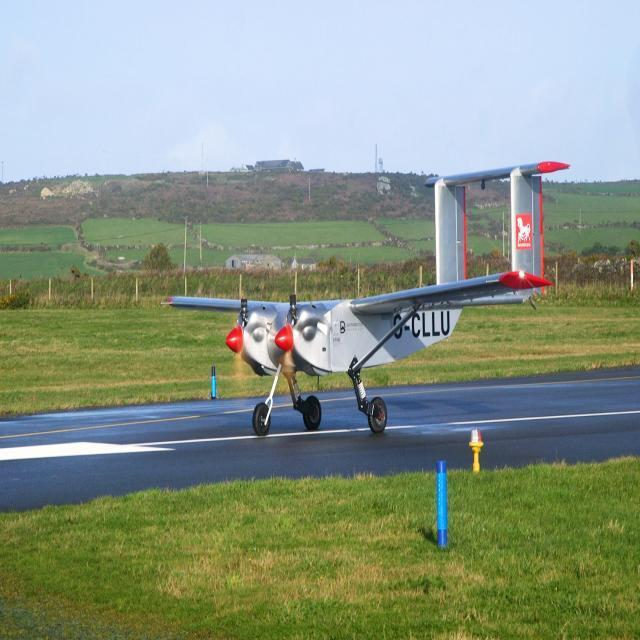iha: (167, 153, 593, 437)
